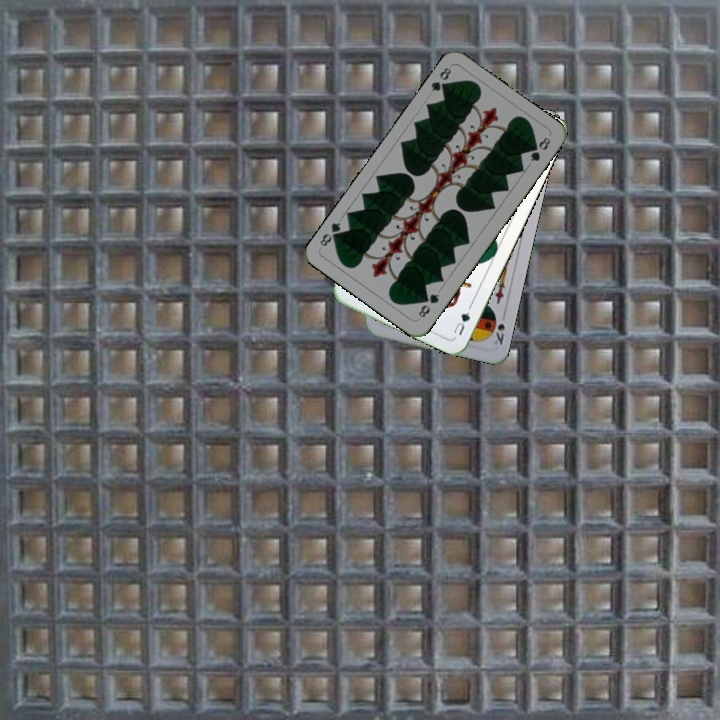G8: (427, 63, 454, 95), (414, 290, 442, 320)
GU: (449, 308, 473, 338)
SK: (490, 319, 508, 347)
